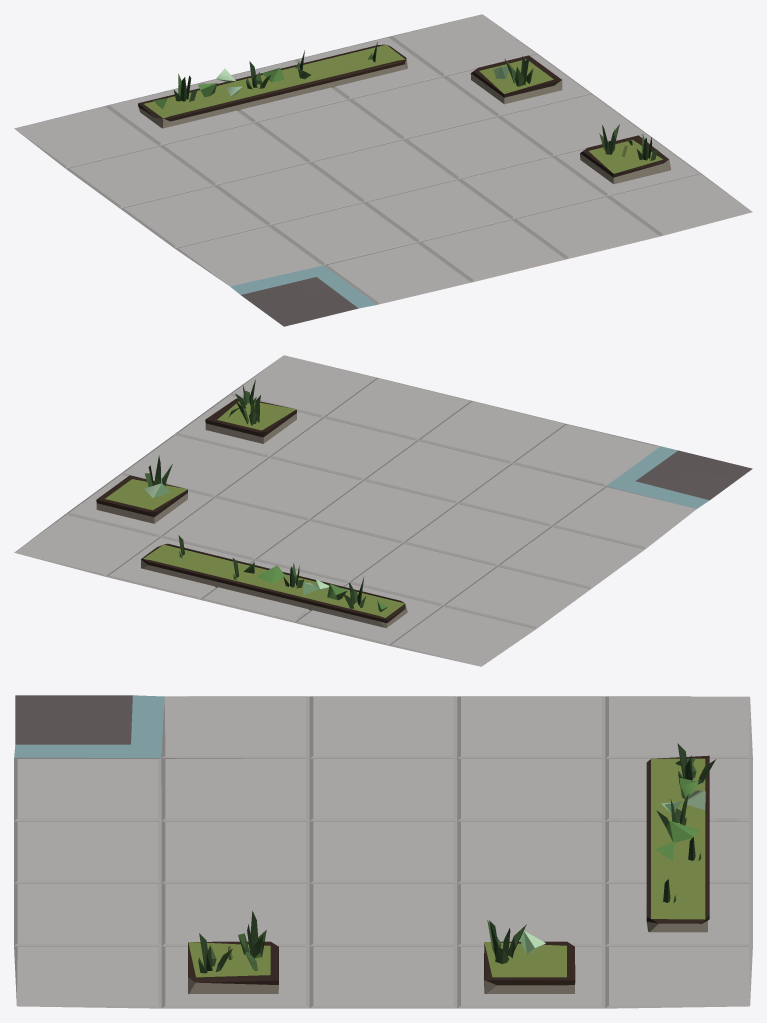
File: QmdHfyubLbzY3m85JmVCMNkfhK1Prc6cfJpyi5zkeTDpWX_lod2.fbx
3 renders of one model, top to bottom at view 1: azimuth 30°, elevation 25°; view 2: azimuth 150°, elevation 25°; view 3: azimuth 270°, elevation 25°, orthographic. The views are drawn at different scales.
Parts seen in each view (by area): view 1: Entity_513; view 2: Entity_513; view 3: Entity_513.
Boxes of the visible parts, x1=… form: Entity_513: x1=14, y1=14, x2=752, y2=326; Entity_513: x1=14, y1=355, x2=752, y2=666; Entity_513: x1=14, y1=695, x2=752, y2=1008.
Bounding box in the file's own units: 16000 × 1367 × 16000.
Materials: 1 (1 with a texture image).
